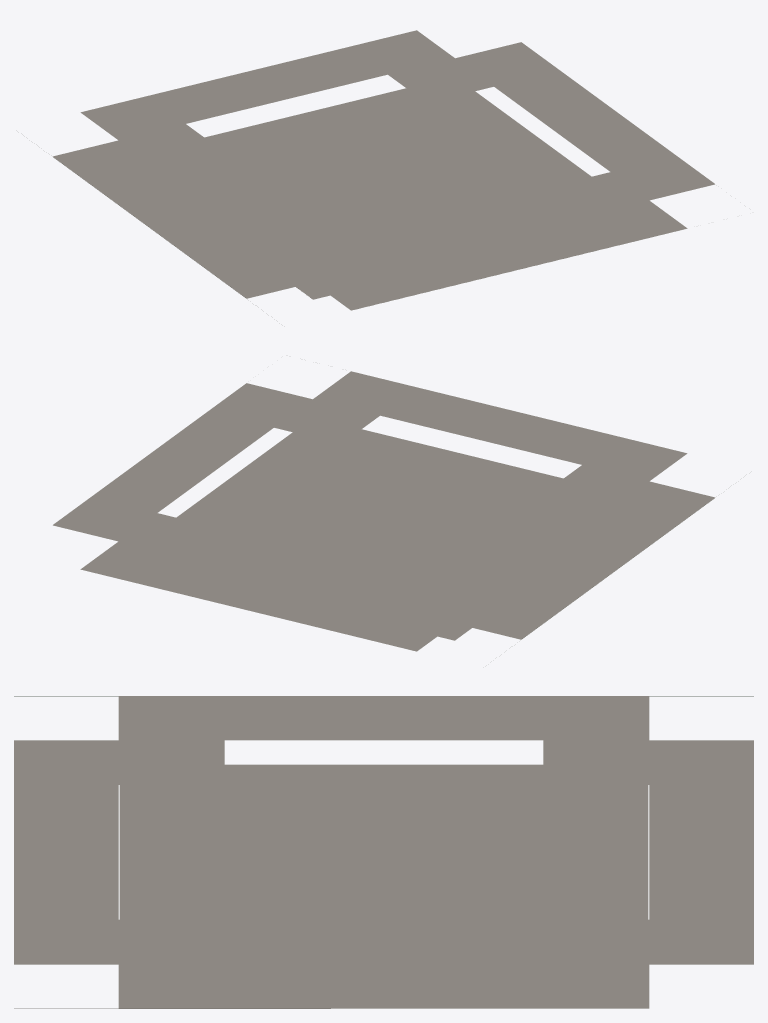
The model's file is plate.gltf.
The picture shows the model from 3 angles, top to bottom: view 1: azimuth 30°, elevation 25°; view 2: azimuth 150°, elevation 25°; view 3: azimuth 270°, elevation 25°; orthographic projection. The views are drawn at different scales.
Visible parts, largest first — view 1: cube (×2); view 2: cube (×2); view 3: cube (×2).
Boxes of the visible parts, x1,y1,x2,y2 form: cube (×2): (52,30,714,310); cube (×2): (53,371,715,651); cube (×2): (14,696,753,1008).
Bounding box in the file's own units: 0.4375 × 0.0158 × 0.4375.
1 material, 1 textured.
